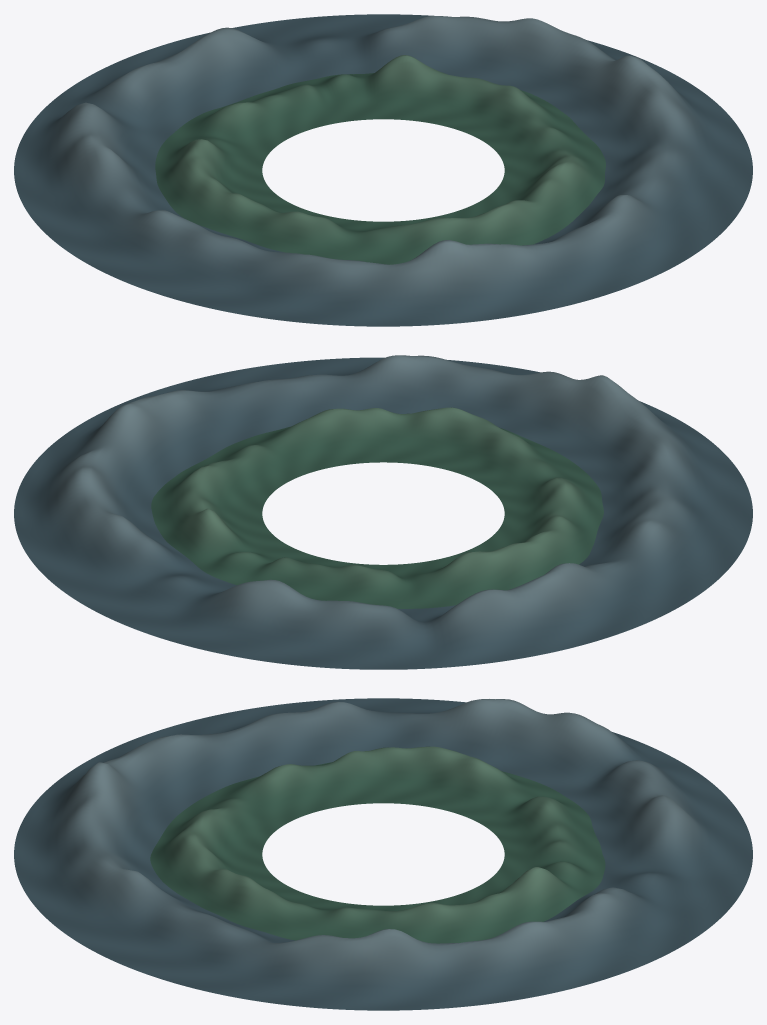
File: river-mountains.glb
3 renders of one model, top to bottom at view 1: azimuth 30°, elevation 25°; view 2: azimuth 150°, elevation 25°; view 3: azimuth 270°, elevation 25°, orthographic.
Visible parts, largest first — view 1: Distant mountain ridgeline, Wooded mountain foothills; view 2: Distant mountain ridgeline, Wooded mountain foothills; view 3: Distant mountain ridgeline, Wooded mountain foothills.
Part boxes in pixels (x1,y1,x2,y2): Distant mountain ridgeline: (14, 14, 752, 326); Wooded mountain foothills: (155, 55, 605, 264); Distant mountain ridgeline: (14, 355, 752, 669); Wooded mountain foothills: (151, 407, 603, 608); Distant mountain ridgeline: (14, 698, 752, 1010); Wooded mountain foothills: (150, 746, 605, 943).
Bounding box in the file's own units: 1330 × 102 × 1330.
